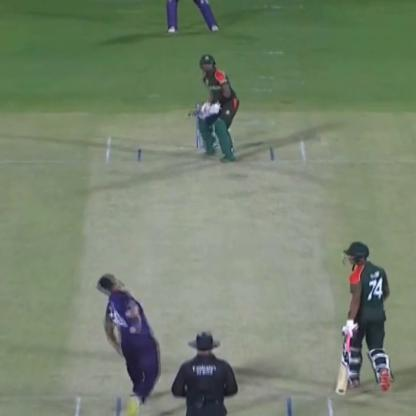ball: (121, 324, 143, 336), (120, 310, 135, 320)
bat: (327, 323, 354, 385), (180, 99, 219, 121)
pitch: (72, 128, 346, 415)
